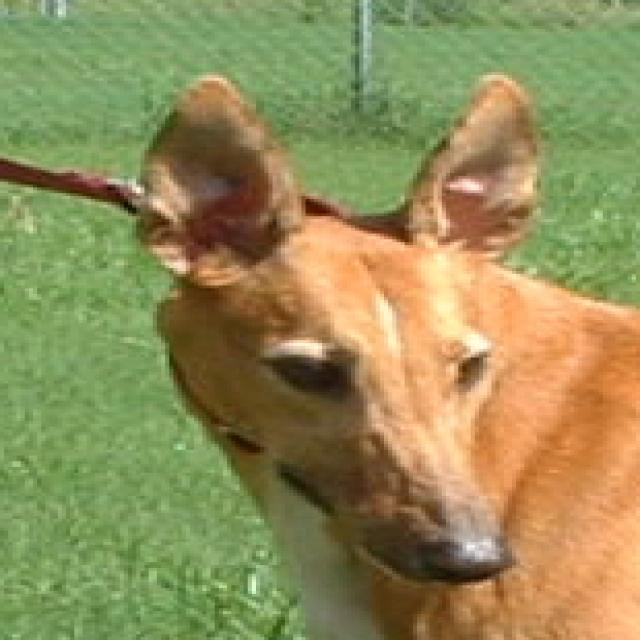Dogs: (0, 69, 636, 637)
